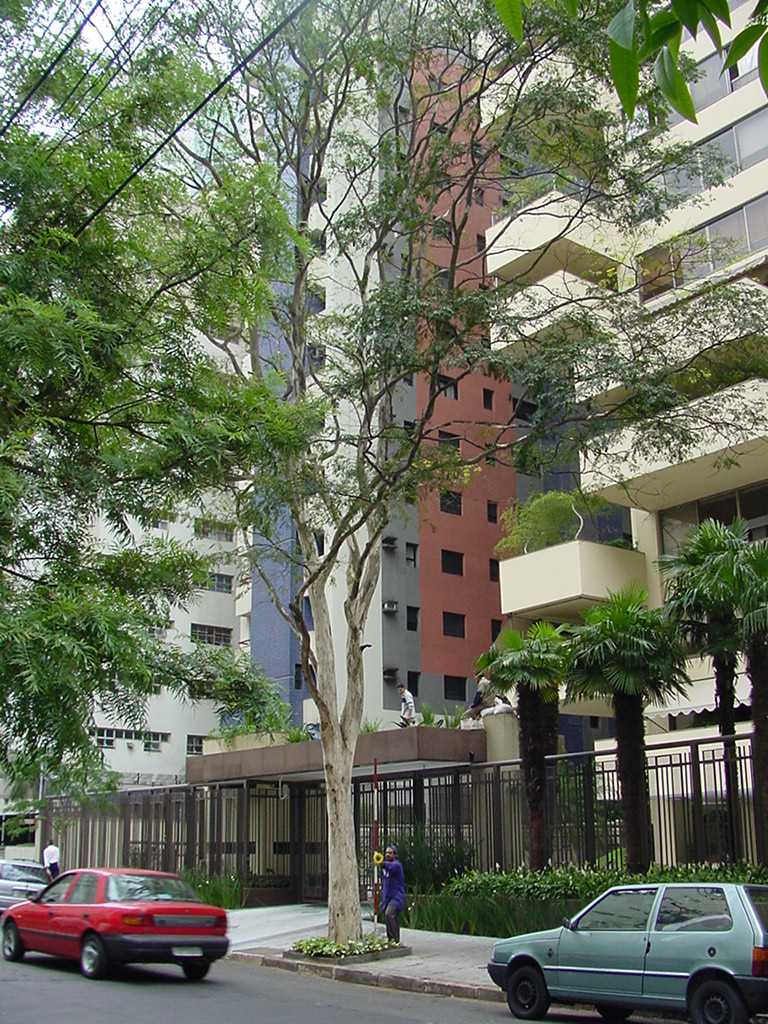stem: (301, 751, 370, 952)
stick: (364, 758, 390, 945)
tree: (147, 1, 757, 954)
